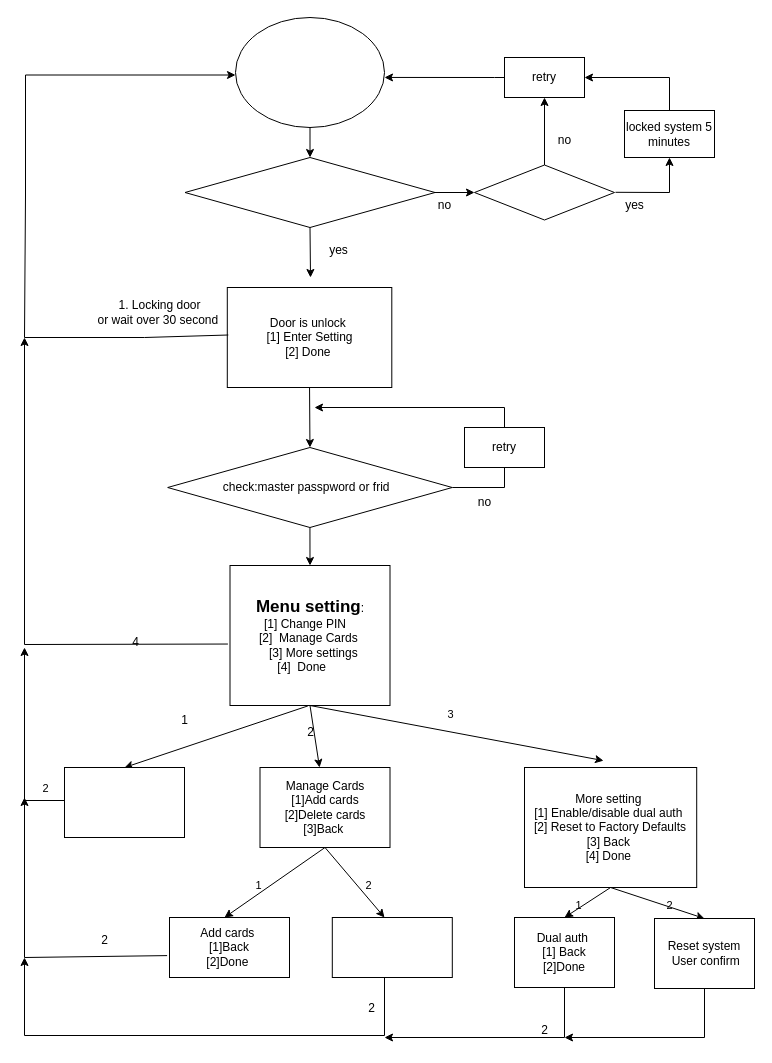
Some shapes in this 772 by 1063 pixel diagram are drawn without their labels. Here are the shapes that lost their labels. From the top down, the centre of each, then its label:
pixel 309 72: Main menu door is lock password or card
pixel 309 192: check:password or rfid card fail_count++
pixel 544 192: if fail_count>5
pixel 124 802: Change PIN [1]Back [2]Done
pixel 391 947: Delete cards [1]Back [2]Done
